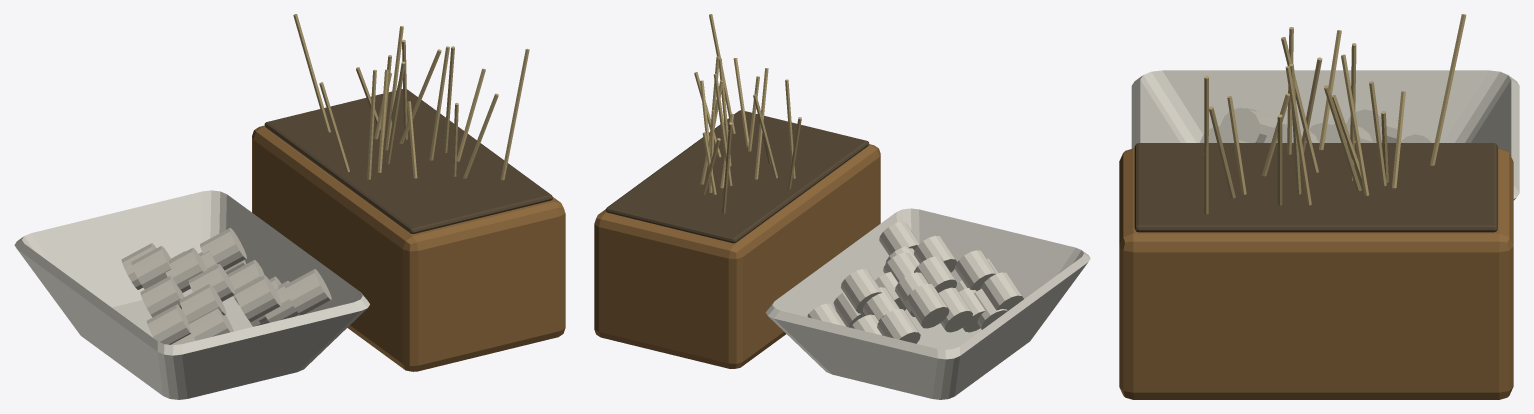
Rendered from skewers.glb.
3 views of the same model, side by side, from view 1: azimuth 30°, elevation 25°; view 2: azimuth 150°, elevation 25°; view 3: azimuth 270°, elevation 25° (orthographic). The views are drawn at different scales.
Visible parts, largest first — view 1: skewers; view 2: skewers; view 3: skewers.
Part boxes in pixels (left/top/right/bottom): skewers: left=14, top=14, right=565, bottom=399; skewers: left=594, top=14, right=1090, bottom=399; skewers: left=1119, top=14, right=1519, bottom=399.
Size of the model in its own units: 0.36 by 0.2291 by 0.256.
